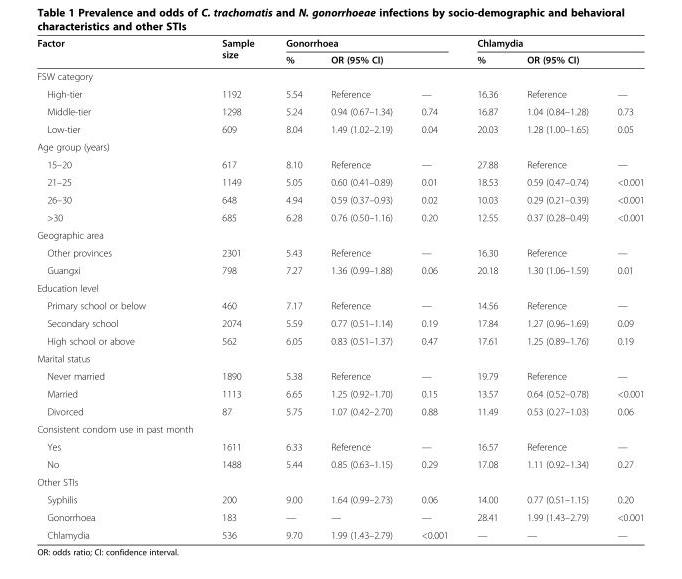table: (36, 36, 643, 540)
table column: (36, 36, 206, 540), (315, 36, 406, 540), (511, 36, 602, 540), (206, 36, 269, 540), (406, 36, 462, 540), (462, 36, 511, 540), (269, 36, 315, 540), (602, 36, 643, 540)
table column header: (36, 36, 643, 67)
table projected row header: (36, 137, 643, 155), (36, 225, 643, 243), (36, 278, 643, 296), (36, 419, 643, 437), (36, 472, 643, 490), (36, 67, 643, 84), (36, 349, 643, 366)
table row: (36, 84, 643, 102), (36, 102, 643, 120), (36, 137, 643, 155), (36, 172, 643, 190), (36, 190, 643, 208), (36, 225, 643, 243), (36, 243, 643, 261), (36, 278, 643, 296), (36, 296, 643, 314), (36, 331, 643, 349), (36, 366, 643, 384), (36, 384, 643, 402), (36, 419, 643, 437), (36, 437, 643, 455), (36, 472, 643, 490), (36, 490, 643, 508), (36, 50, 643, 67), (36, 67, 643, 84), (36, 120, 643, 137), (36, 155, 643, 172), (36, 208, 643, 225), (36, 261, 643, 278), (36, 314, 643, 331), (36, 349, 643, 366), (36, 402, 643, 419), (36, 455, 643, 472), (36, 508, 643, 525), (36, 525, 643, 540), (36, 36, 643, 50)
table spanning cell: (36, 36, 206, 67), (269, 36, 462, 50), (462, 36, 643, 50), (206, 36, 269, 67)
